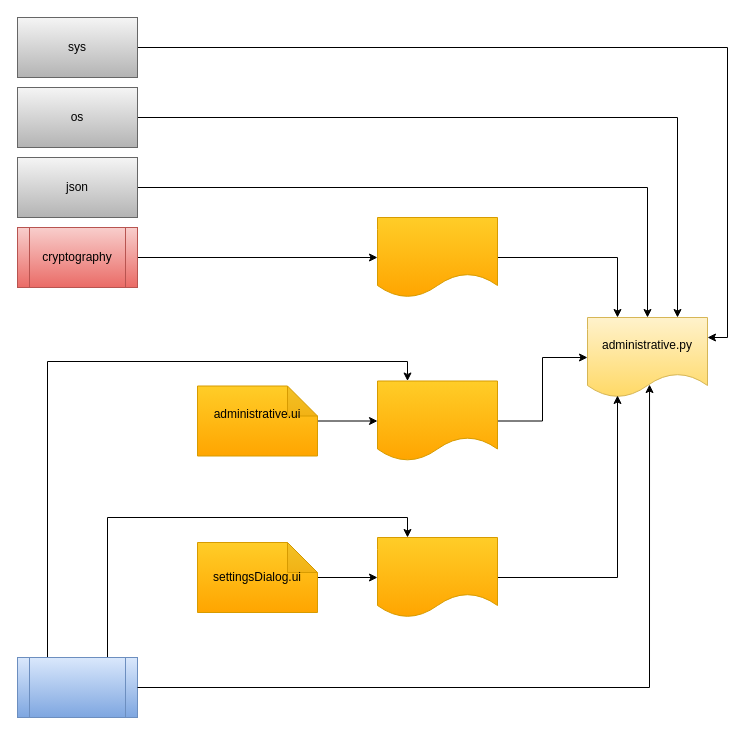
Image size: 753x735. Some labels were removed from this diagram. The shapes that lost their labels are listed below. From the top down, each one's centre as x and y in pixels, then its label:
At point (437, 257): "cipher.py".
At point (437, 420): "administrative_ui.py".
At point (437, 577): "settingsDialog_ui.py".
At point (77, 687): "PySide6".
